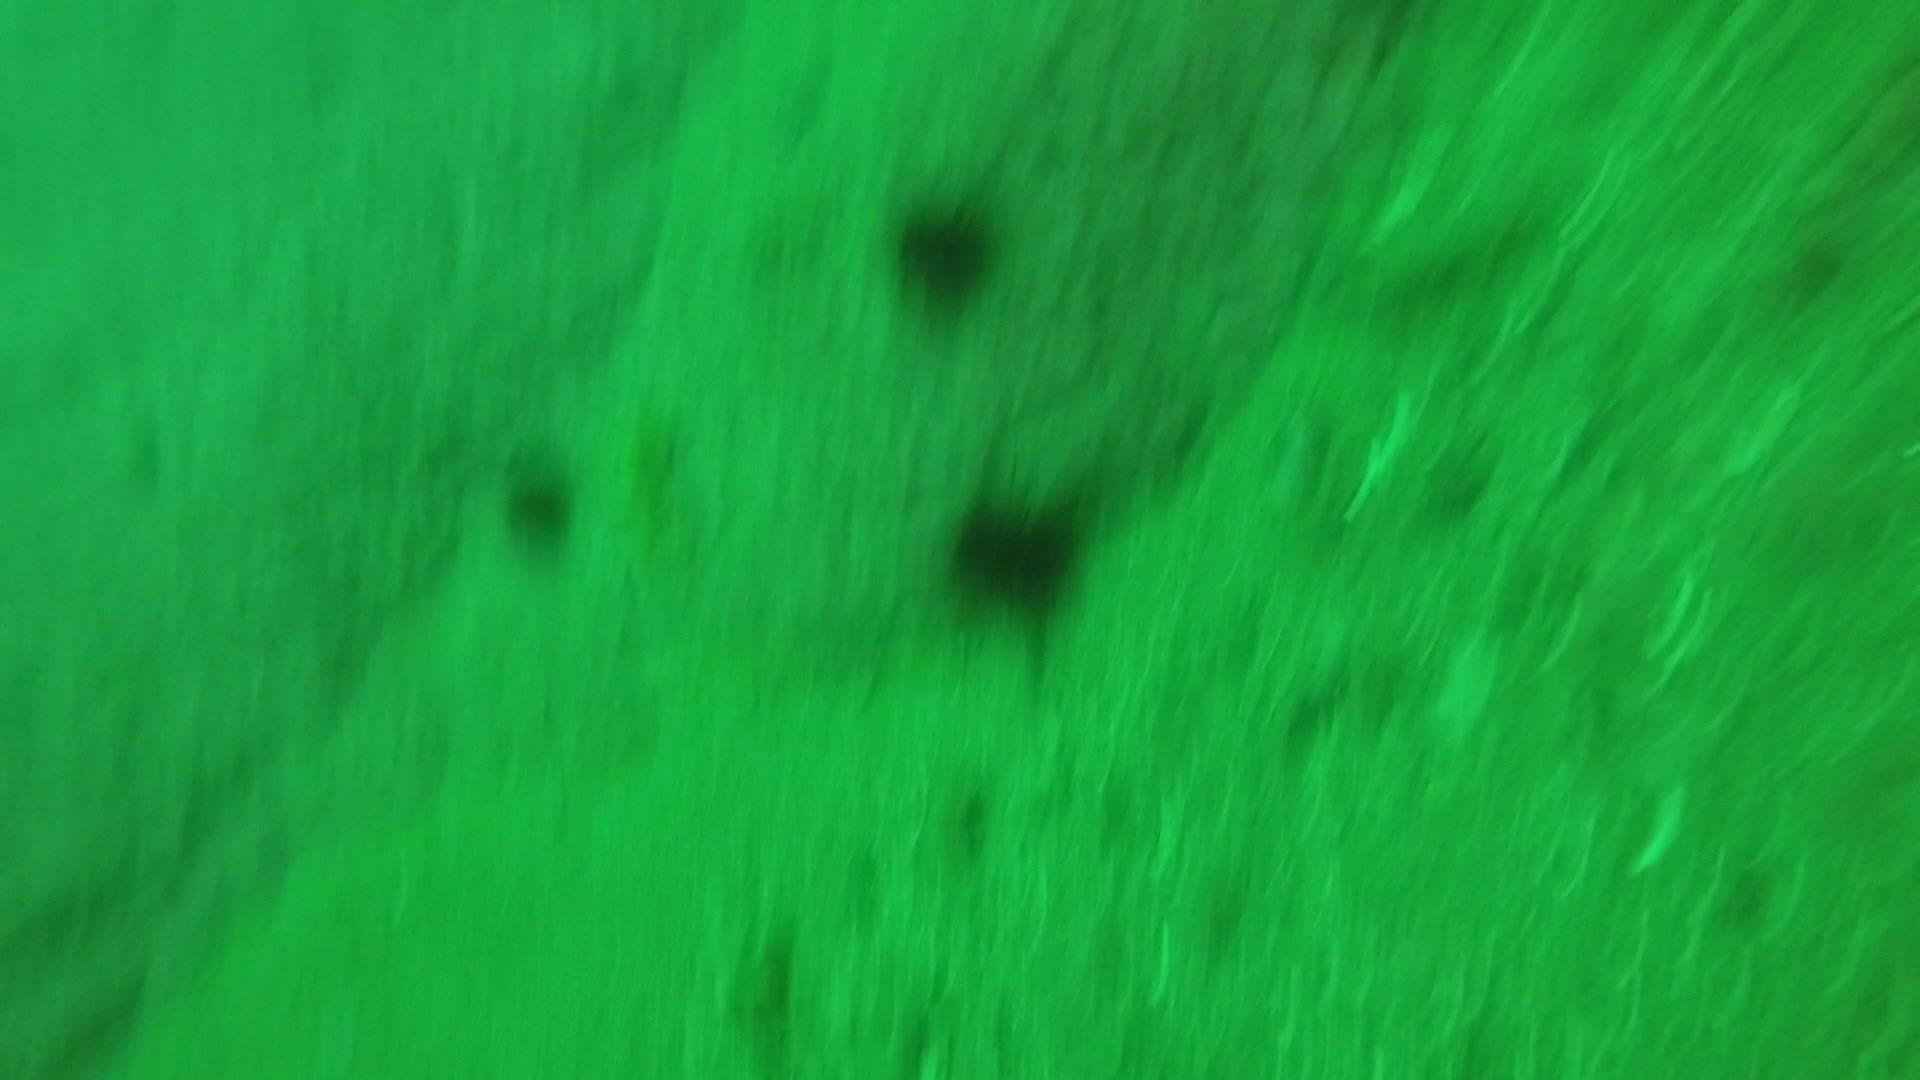echinus: (939, 477, 1092, 615), (887, 190, 1004, 309), (497, 458, 584, 558)
